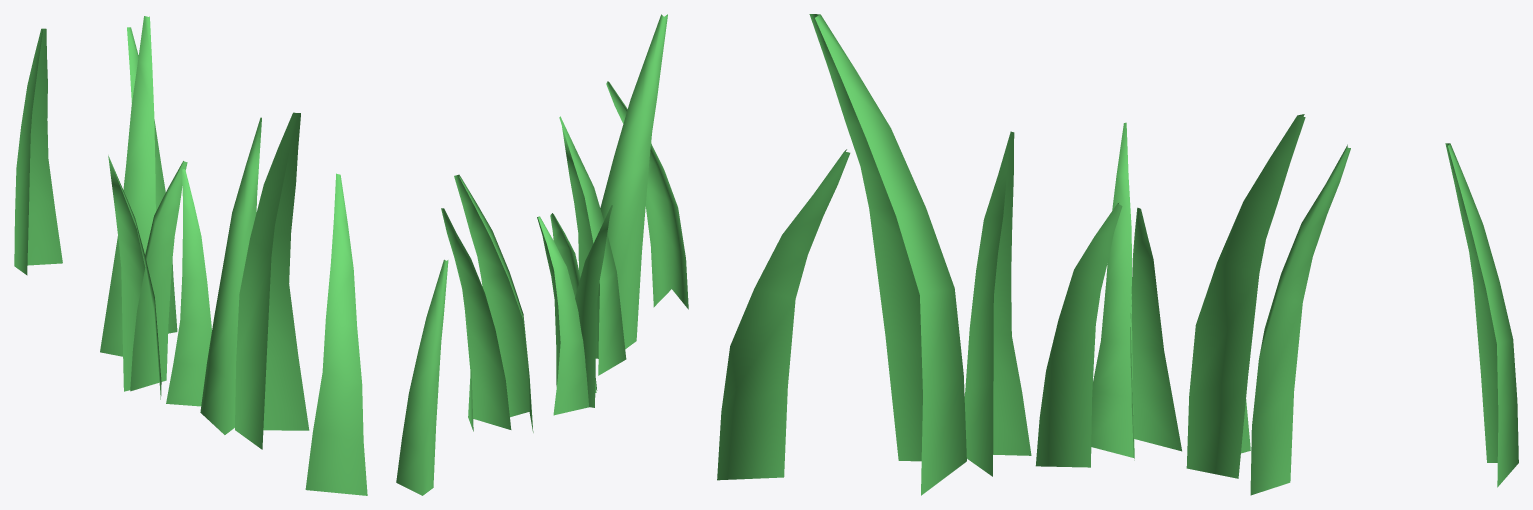
File: grass.fbx
The picture shows the model from 3 angles, left to right: view 1: azimuth 30°, elevation 25°; view 2: azimuth 150°, elevation 25°; view 3: azimuth 270°, elevation 25°; orthographic projection. The views are drawn at different scales.
Visible parts, largest first — view 1: blade; view 2: blade; view 3: blade.
Boxes of the visible parts, <box> form: blade: <box>14,16,367,495</box>; blade: <box>396,14,688,495</box>; blade: <box>717,14,1518,495</box>.
Bounding box in the file's own units: 64.99 × 187 × 304.
